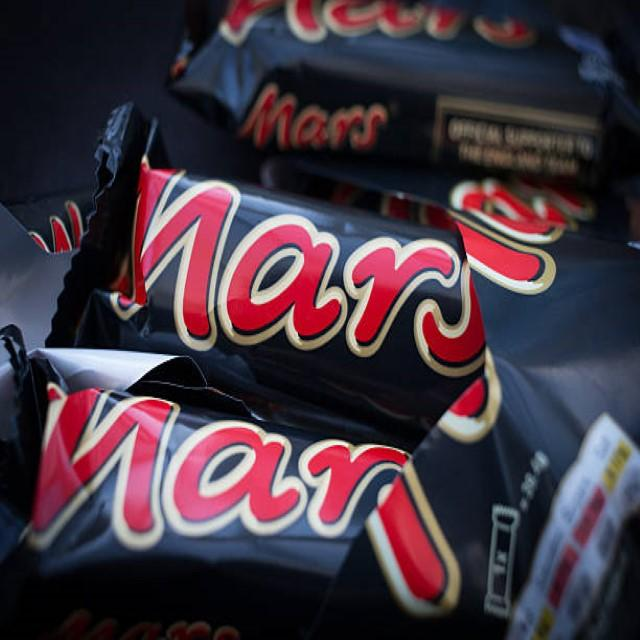mars_chocolate: (23, 325, 517, 640), (112, 183, 585, 392)
